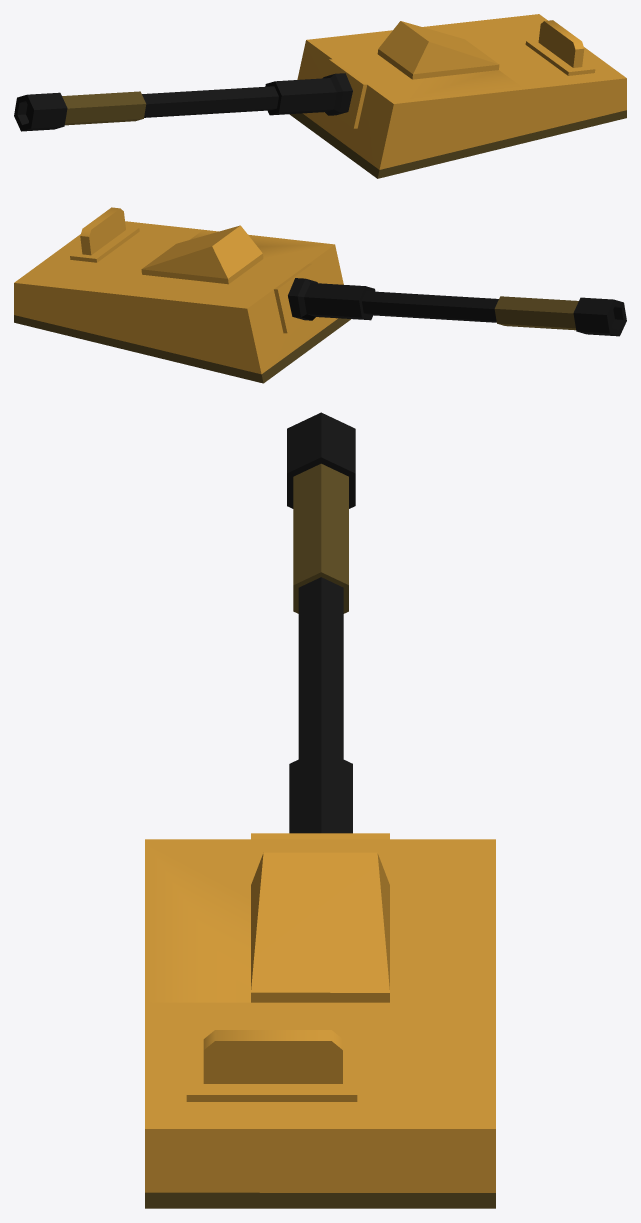
File: TankTop.FBX
3 views of the same model, one above another, from view 1: azimuth 30°, elevation 25°; view 2: azimuth 150°, elevation 25°; view 3: azimuth 270°, elevation 25° (orthographic). The views are drawn at different scales.
Parts seen in each view (by area): view 1: Box1488; view 2: Box1488; view 3: Box1488.
Boxes of the visible parts, x1,y1,x2,y2 form: Box1488: (14, 14, 626, 178); Box1488: (14, 207, 626, 383); Box1488: (145, 412, 495, 1208).
Bounding box in the file's own units: 899 × 194 × 243.
